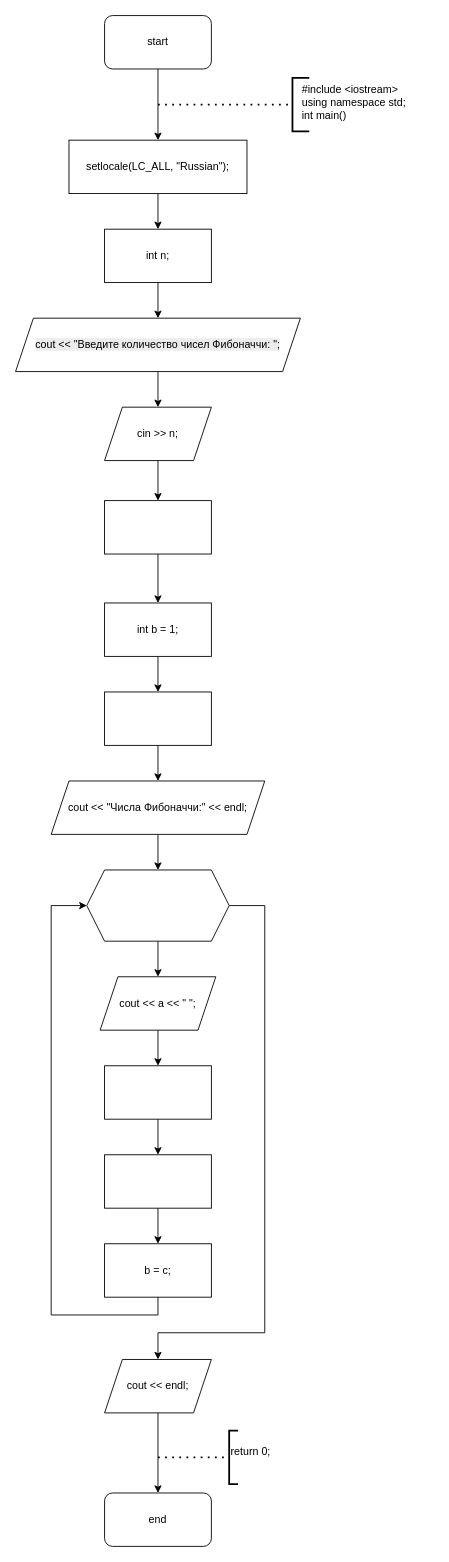
Some shapes in this 449 by 1562 pixel diagram are drawn without their labels. Here are the shapes that lost their labels. From the top down, the box of each, then its label:
(104, 500, 211, 554): int a = 0;
(104, 691, 211, 745): int c;
(86, 869, 229, 941): for (int i = 0; i < n; i++)
(104, 1065, 211, 1119): c = a + b;
(104, 1154, 211, 1208): a = b;
